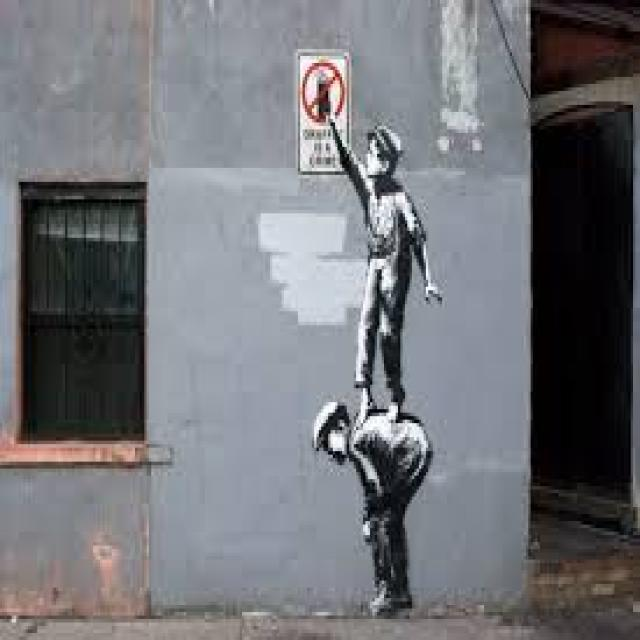-: (315, 115, 440, 616)
